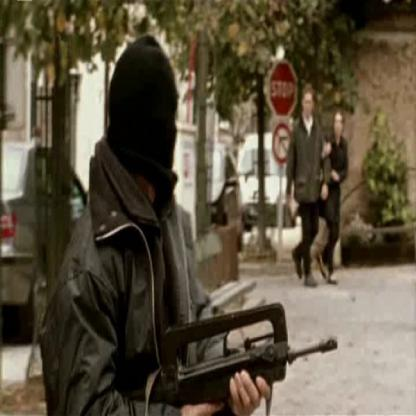Guns: (121, 300, 339, 415)
